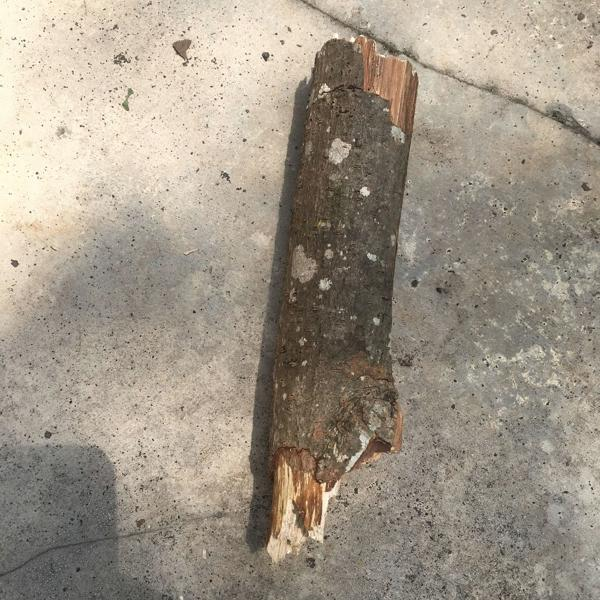Organik: (257, 27, 417, 557)
